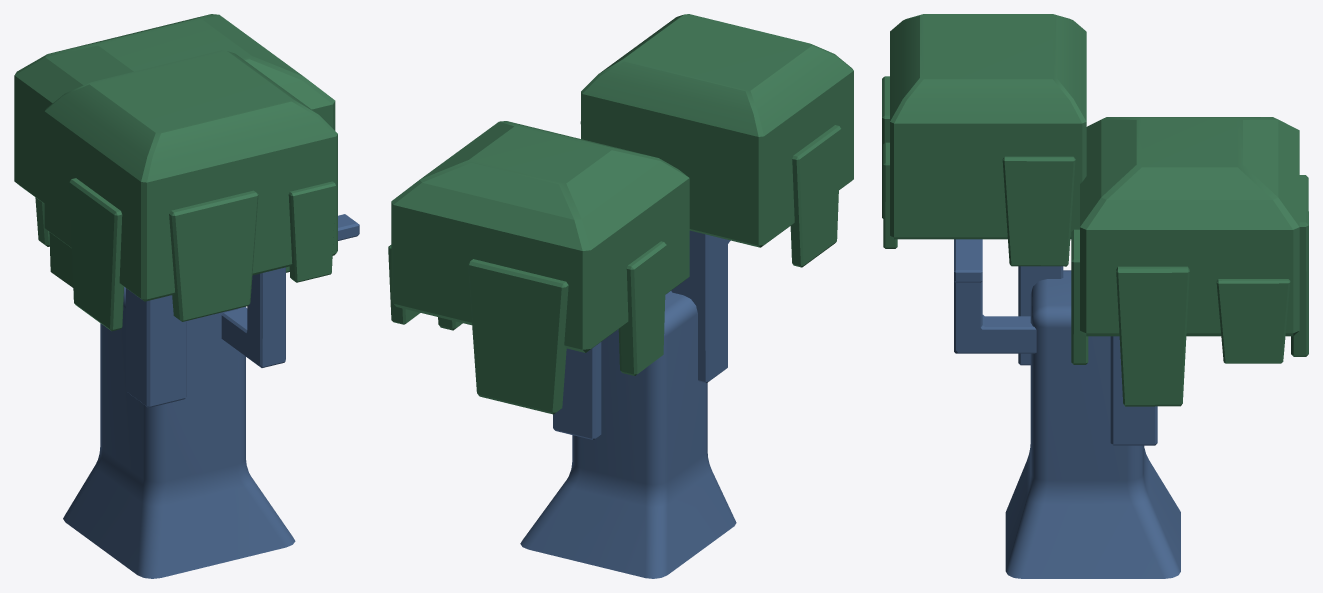
The model's file is Violin_Tree.fbx.
The picture shows the model from 3 angles, left to right: view 1: azimuth 30°, elevation 25°; view 2: azimuth 150°, elevation 25°; view 3: azimuth 270°, elevation 25°; orthographic projection. The views are drawn at different scales.
Visible parts, largest first — view 1: Leaves, trunk; view 2: Leaves, trunk; view 3: Leaves, trunk.
Boxes of the visible parts, box(x1,y1,x2,y2) form: Leaves: box(14, 14, 337, 331); trunk: box(63, 214, 359, 578); Leaves: box(388, 14, 853, 414); trunk: box(520, 230, 736, 578); Leaves: box(882, 14, 1308, 406); trunk: box(954, 239, 1180, 578).
Bounding box in the file's own units: 223 × 338 × 275.
